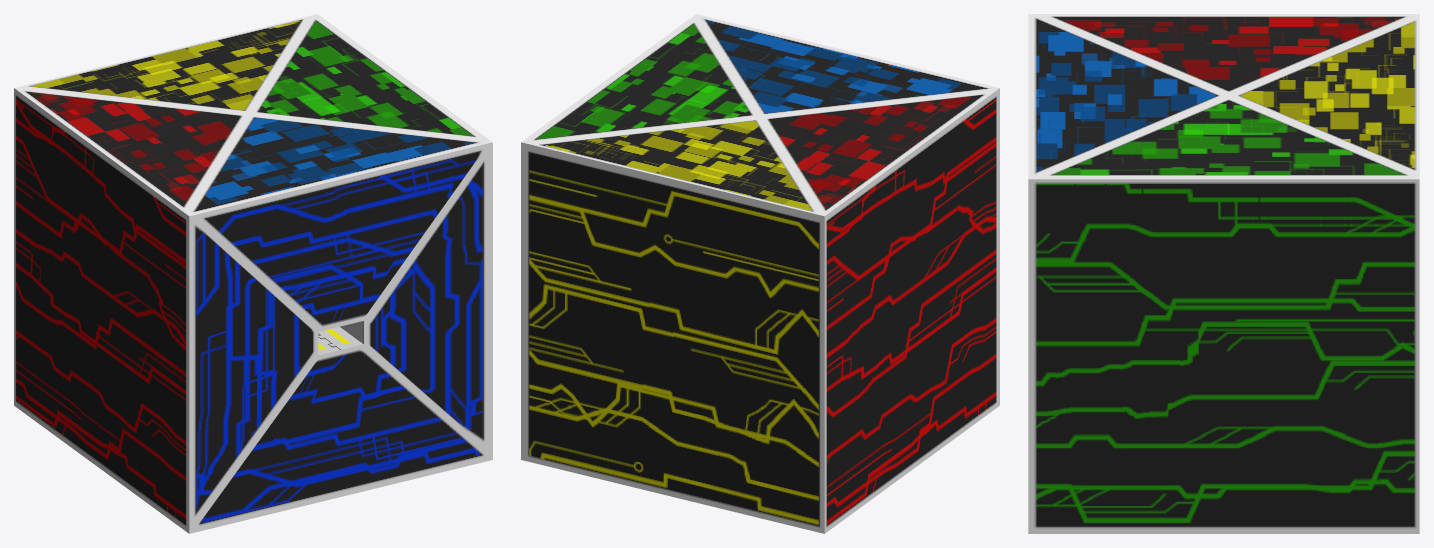
The model's file is PortBlock.FBX.
The picture shows the model from 3 angles, left to right: view 1: azimuth 30°, elevation 25°; view 2: azimuth 150°, elevation 25°; view 3: azimuth 270°, elevation 25°; orthographic projection. The views are drawn at different scales.
Parts seen in each view (by area): view 1: Box; view 2: Box; view 3: Box.
Part boxes in pixels (box(x1,y1,x2,y2)): Box: box(14, 14, 492, 533); Box: box(521, 14, 999, 533); Box: box(1028, 14, 1419, 533).
Bounding box in the file's own units: 39.37 × 39.37 × 39.37.
Materials: 1 (1 with a texture image).
